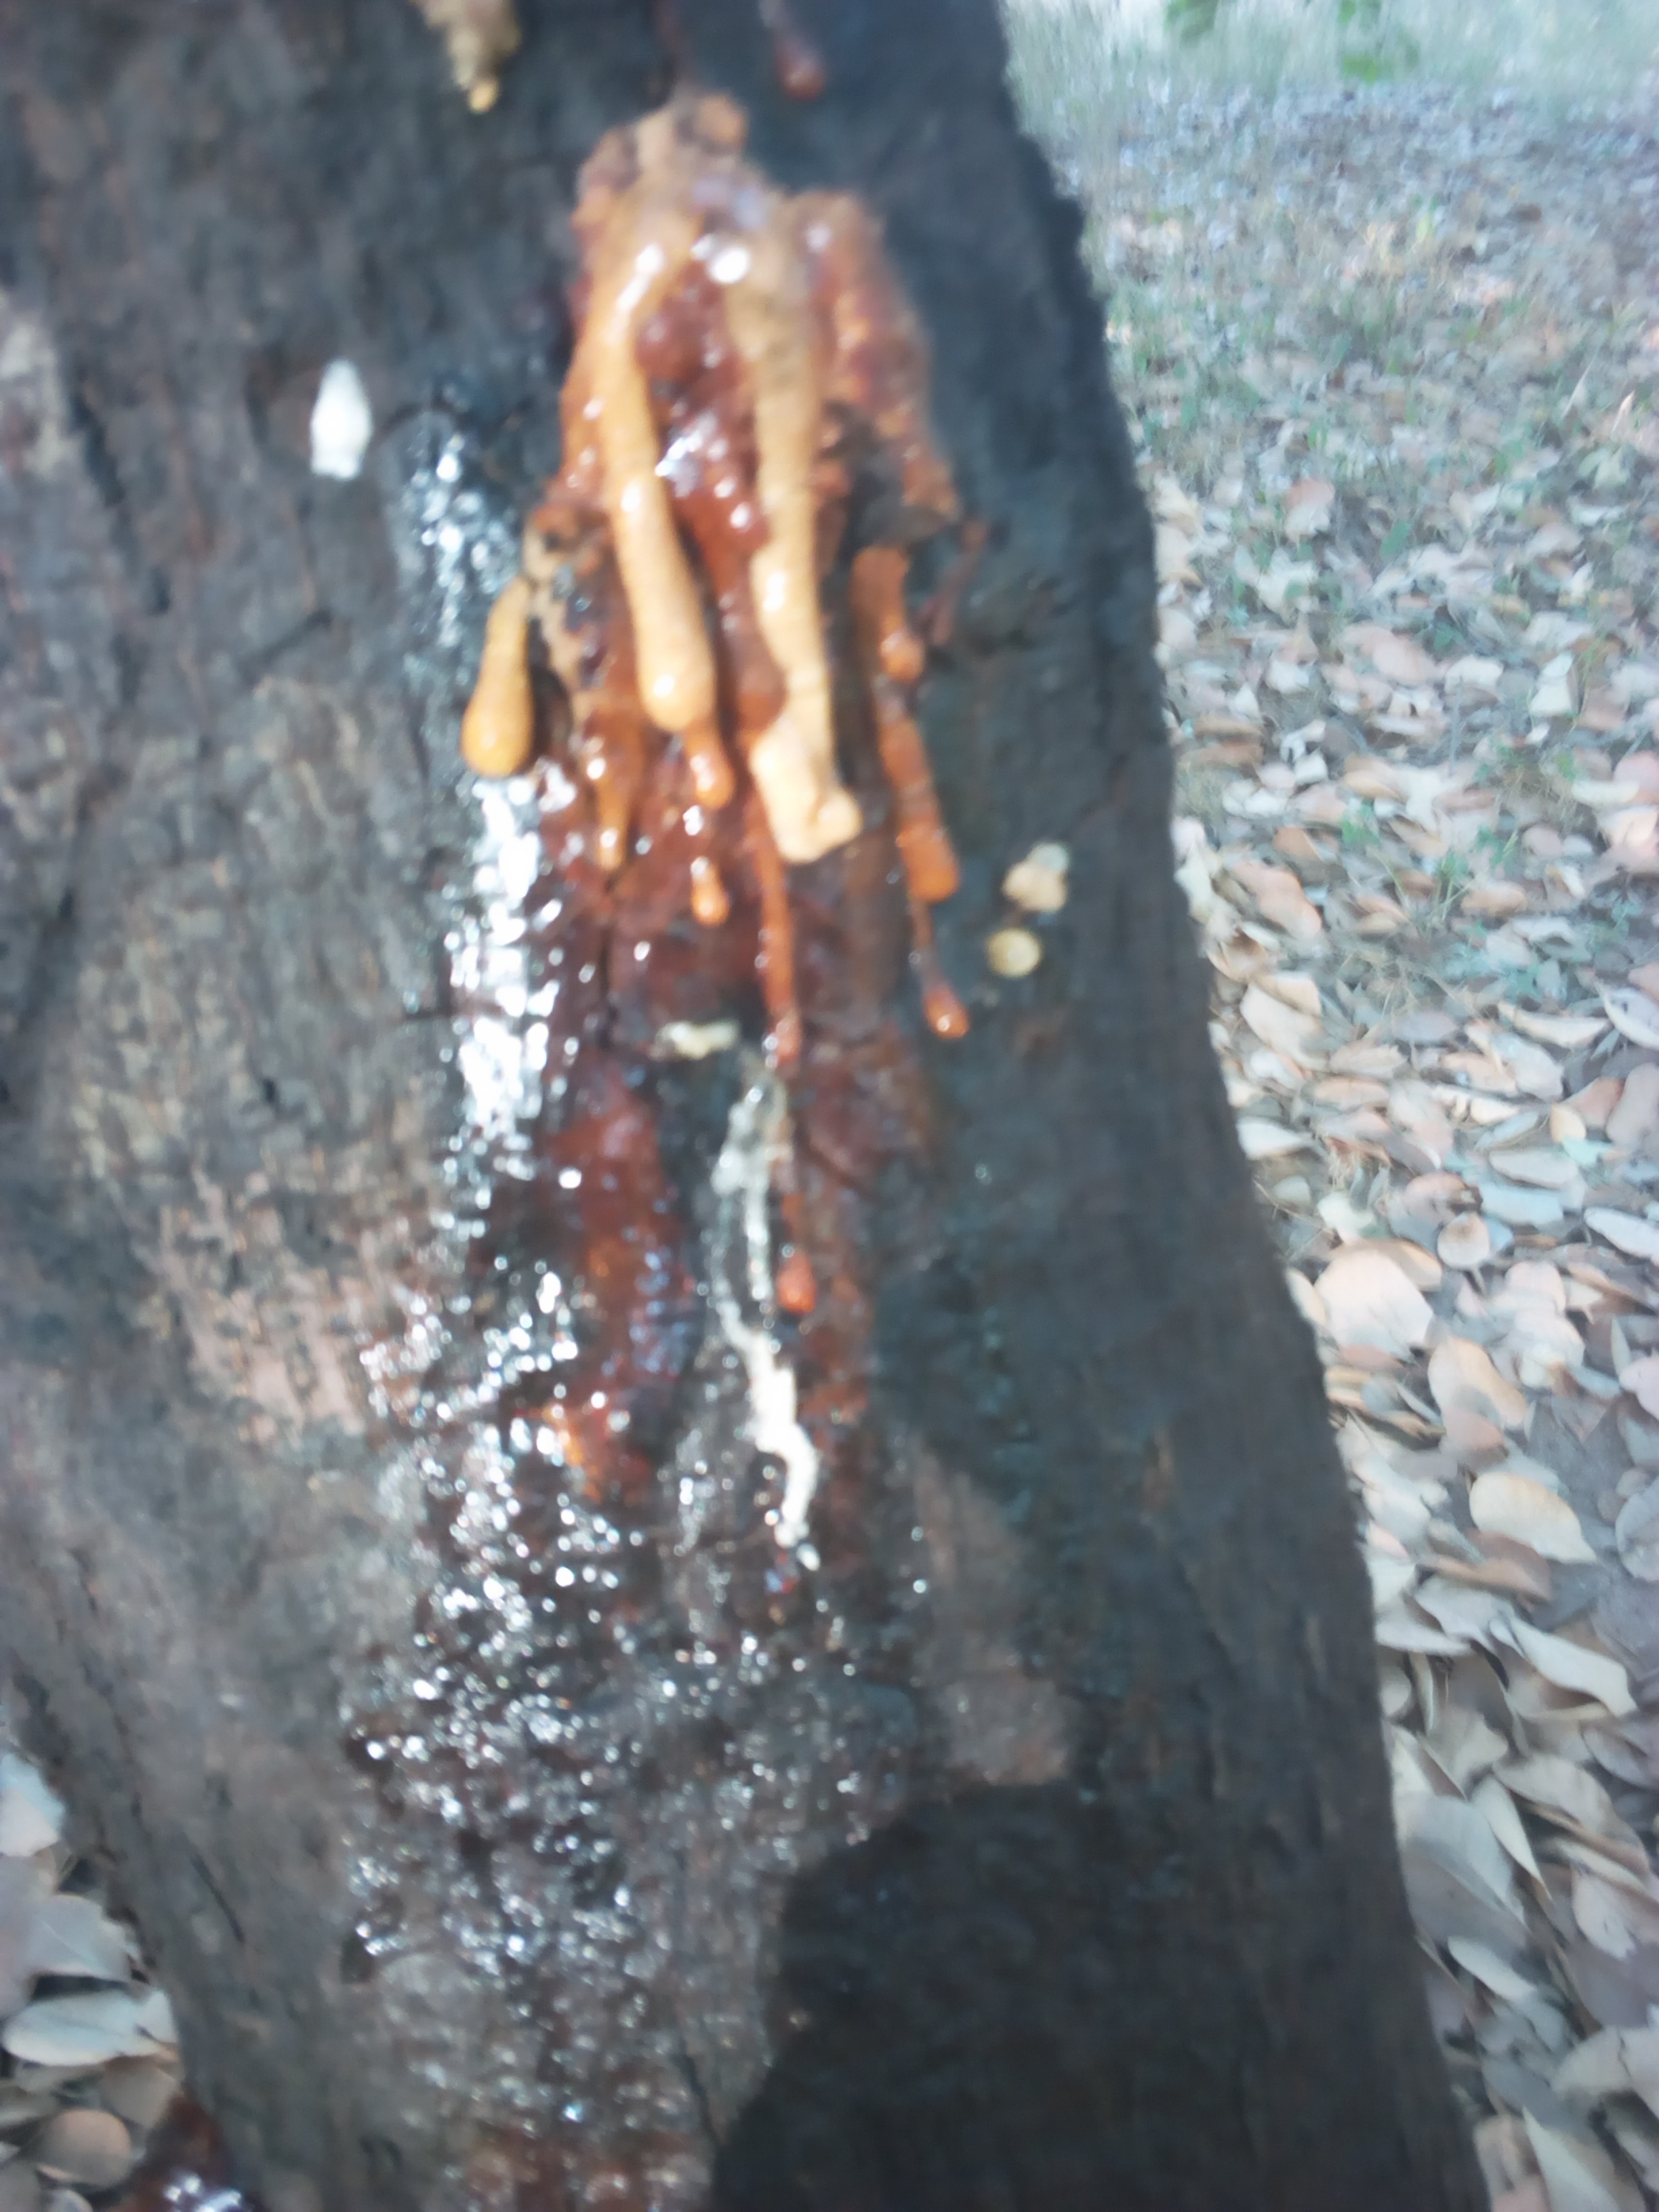Gommose: (359, 103, 1016, 2191)
